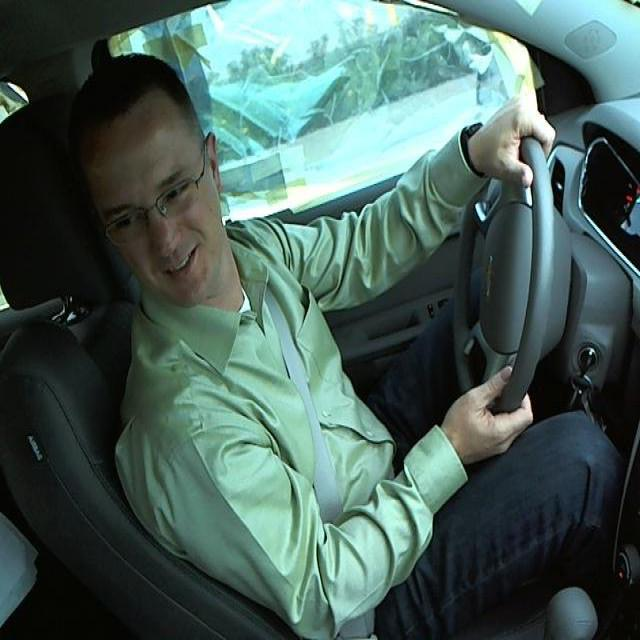seatbelt: (255, 293, 359, 511)
